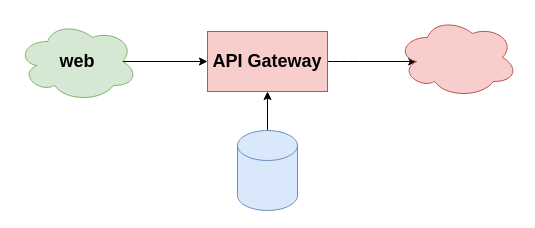
This 535x228 diagram has some shape labels left out. The shapes that lost their labels are listed below. From the top down, each one's box as (x1, y1, x2, y2) in pixels, then its label:
(396, 16, 518, 98): Users
(236, 130, 298, 210): DB
